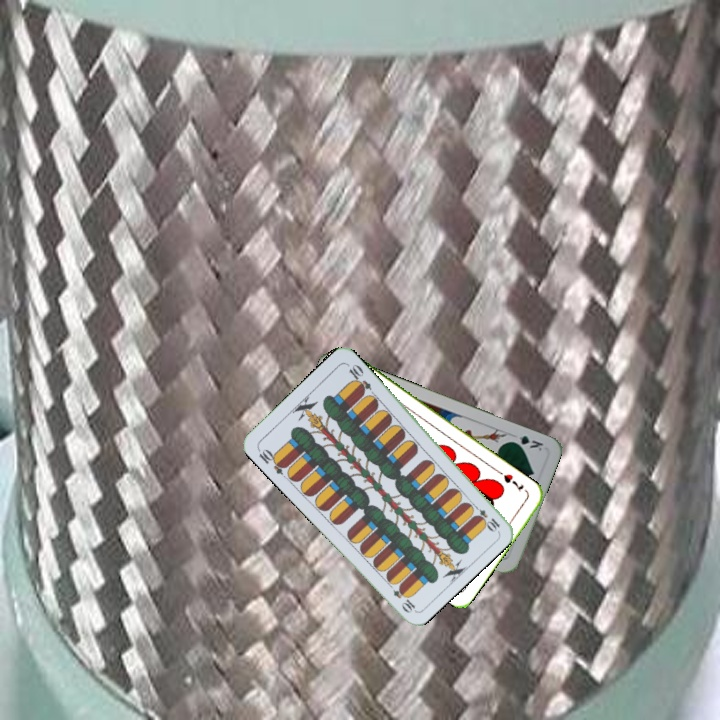E10: (468, 500, 503, 533), (254, 444, 289, 477)
GK: (506, 430, 547, 454)
H7: (499, 470, 526, 495)
